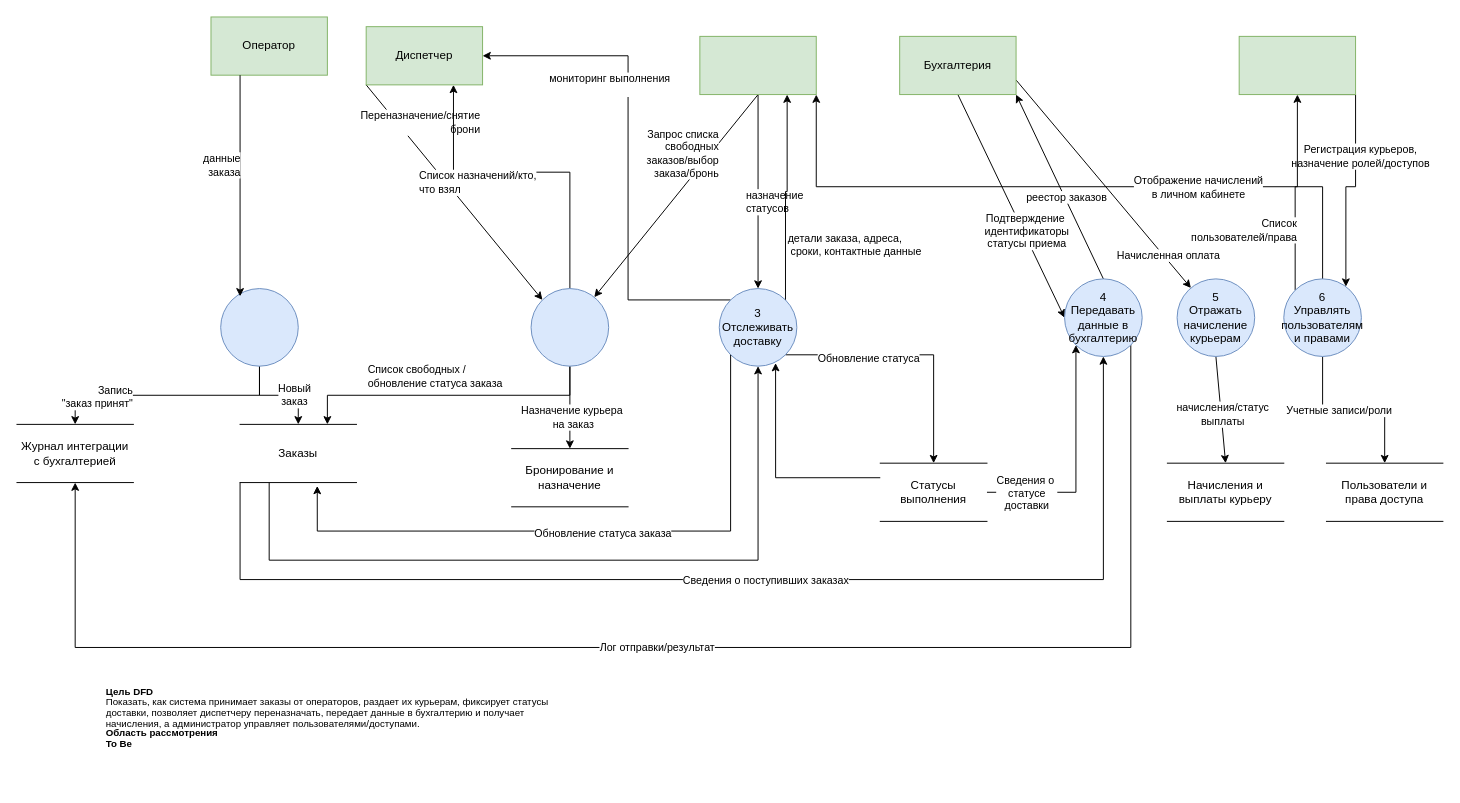
Some shapes in this 1460 by 803 pixel diagram are drawn without their labels. The box of each missing label's shape, as (x1, y1, x2, y2) in pixels:
1 Регестрировать заказ: (220, 288, 298, 366)
2 Назначать заказ курьеру: (530, 288, 609, 366)
Администратор: (1238, 35, 1356, 95)
Курьер: (699, 35, 816, 95)
